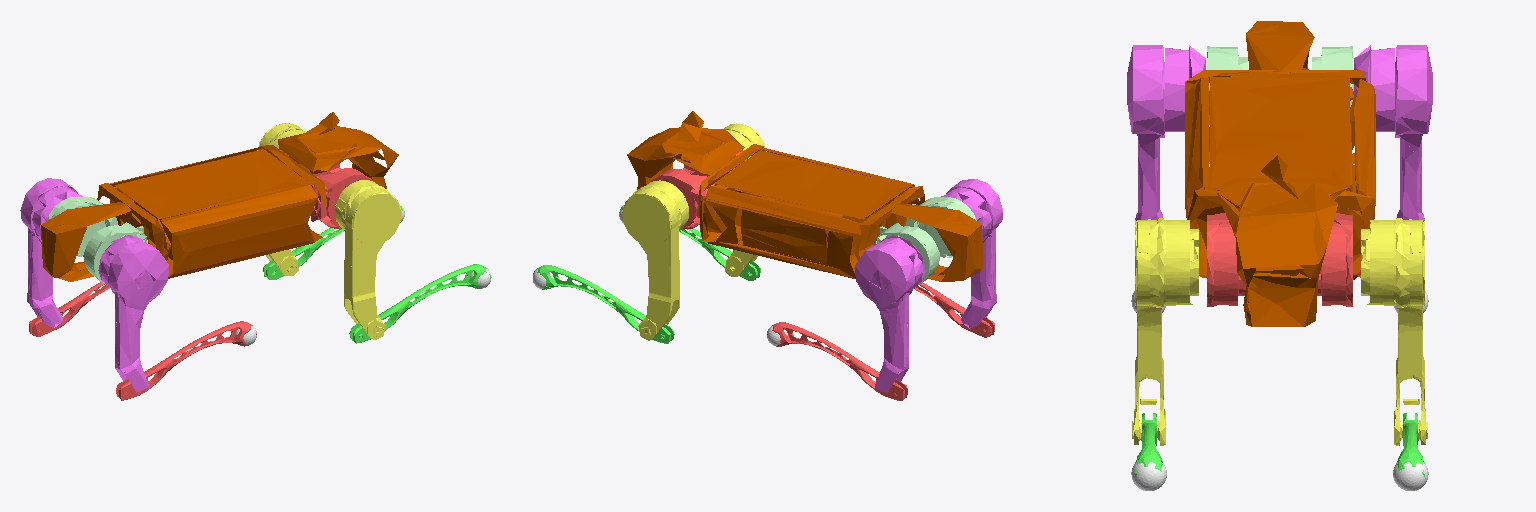
--- Render facts (derived) ---
The picture shows the robot from 3 angles, left to right: view 1: azimuth 30°, elevation 25°; view 2: azimuth 150°, elevation 25°; view 3: azimuth 270°, elevation 25°; orthographic projection.
Robot: galileo_mini15 — 18 links, 17 joints (12 revolute, 4 fixed, 1 floating); root link world; default pose: joints at zero except 4 at the middle of their limits (FR_knee_joint = -1.81, HR_knee_joint = -1.81, FL_knee_joint = -1.81, HL_knee_joint = -1.81).
Visible links, largest first — view 1: base_link, FR_hip_link, HR_hip_link, HL_hip_link, HR_knee_link, FR_knee_link, FR_abd_link, HR_abd_link, FL_hip_link, HL_knee_link, HL_abd_link, FL_knee_link; view 2: base_link, FL_hip_link, HL_hip_link, HR_hip_link, HL_knee_link, FL_knee_link, HL_abd_link, FL_abd_link, FR_hip_link, HR_knee_link, HR_abd_link, FR_knee_link; view 3: base_link, FR_hip_link, FL_hip_link, HL_hip_link, HR_hip_link, FR_abd_link, FL_abd_link, HL_abd_link, FR_knee_link, FL_knee_link, HR_abd_link, FR_foot_link (+1 smaller).
Link boxes in pixels (x1=…): base_link: x1=41, y1=112, x2=398, y2=281; FR_hip_link: x1=335, y1=180, x2=401, y2=339; HR_hip_link: x1=98, y1=235, x2=168, y2=392; HL_hip_link: x1=20, y1=178, x2=82, y2=327; HR_knee_link: x1=116, y1=321, x2=256, y2=400; FR_knee_link: x1=349, y1=264, x2=490, y2=343; FR_abd_link: x1=311, y1=168, x2=373, y2=228; HR_abd_link: x1=83, y1=222, x2=147, y2=284; FL_hip_link: x1=258, y1=123, x2=306, y2=275; HL_knee_link: x1=29, y1=282, x2=109, y2=336; HL_abd_link: x1=47, y1=197, x2=118, y2=256; FL_knee_link: x1=263, y1=206, x2=402, y2=279; base_link: x1=627, y1=111, x2=982, y2=281; FL_hip_link: x1=622, y1=180, x2=688, y2=340; HL_hip_link: x1=855, y1=235, x2=925, y2=392; HR_hip_link: x1=941, y1=179, x2=1002, y2=328; HL_knee_link: x1=767, y1=322, x2=907, y2=400; FL_knee_link: x1=533, y1=265, x2=674, y2=343; HL_abd_link: x1=875, y1=223, x2=940, y2=284; FL_abd_link: x1=651, y1=169, x2=714, y2=228; FR_hip_link: x1=724, y1=123, x2=764, y2=276; HR_knee_link: x1=913, y1=283, x2=994, y2=337; HR_abd_link: x1=906, y1=197, x2=976, y2=257; FR_knee_link: x1=621, y1=207, x2=760, y2=280; base_link: x1=1185, y1=21, x2=1375, y2=326; FR_hip_link: x1=1132, y1=218, x2=1198, y2=445; FL_hip_link: x1=1361, y1=218, x2=1427, y2=445; HL_hip_link: x1=1353, y1=45, x2=1432, y2=220; HR_hip_link: x1=1127, y1=45, x2=1205, y2=220; FR_abd_link: x1=1207, y1=213, x2=1245, y2=306; FL_abd_link: x1=1317, y1=213, x2=1352, y2=306; HL_abd_link: x1=1312, y1=46, x2=1352, y2=106; FR_knee_link: x1=1135, y1=413, x2=1162, y2=481; FL_knee_link: x1=1397, y1=413, x2=1424, y2=481; HR_abd_link: x1=1207, y1=46, x2=1247, y2=126; FR_foot_link: x1=1131, y1=462, x2=1166, y2=490.
Bounding box of the posed robot: 0.9776 × 0.4299 × 0.4579 m (x, y, z).
13 mesh visuals loaded from 7 distinct referenced files (7 binary STL).

URDF robot description (galileo_mini15):
<?xml version="1.0" encoding="utf-8"?>

<robot name="galileo_mini15">
    <mujoco>
        <compiler 
        meshdir="../meshes/" 
        balanceinertia="true" 
        discardvisual="false" />
  </mujoco>
  <link name="world" />
  <joint name="floating_base_joint" type="floating">
    <origin xyz="0 0 0" rpy="0 0 0" />
    <parent link="world" />
    <child link="base_link" />
  </joint>
  <link name="base_link">
    <inertial>
      <origin xyz="0.01435 0.0040863 0.0010607" rpy="0 0 0" />
      <mass value="16.057" />
      <inertia
        ixx="0.082348"
        iyy="0.407373"
        izz="0.445820"
        ixy="0.000713"
        ixz="0.022641"
        iyz="-0.000244" />
    </inertial>
    <visual>
      <origin xyz="0 0 0" rpy="0 0 0" />
      <geometry>
        <mesh filename="package://galileo_mini15_description/meshes/trunk.STL" scale="1 1 1" />
      </geometry>
      <material name="">
        <color rgba="0.8 0.4 0 1" />
      </material>
    </visual>
    <collision>
      <origin xyz="0 0 0" rpy="0 0 0" />
      <geometry>
        <mesh filename="package://galileo_mini15_description/meshes/trunk.STL" scale="1 1 1" />
      </geometry>
    </collision>
  </link>

  <!-- ****************************FR**************************** -->

  <link name="FR_abd_link">
    <inertial>
      <origin xyz="0.074261 -0.010662 0.00797" rpy="0 0 0" />
      <mass value="1.748" />
      <inertia ixx="0.000667447" iyy="0.00144482" izz="0.00107312" ixy="7.2909e-05"
        ixz="-1.0214e-05" iyz="-5.08e-08" />
    </inertial>
    <visual>
      <origin xyz="0 0 0" rpy="0 0 0" />
      <geometry>
        <mesh filename="package://galileo_mini15_description/meshes/FL_abd_link.STL"
          scale="1.0 -1.0 1.0" />
      </geometry>
      <material name="">
        <color rgba="1 0.4 0.4 1" />
      </material>
    </visual>
    <collision>
      <origin xyz="0 0 0" rpy="0 0 0" />
      <geometry>
        <mesh filename="package://galileo_mini15_description/meshes/FL_abd_link.STL"
          scale="1.0 -1.0 1.0" />
      </geometry>
    </collision>
  </link>

  <joint name="FR_abd_joint" type="revolute">
    <origin xyz="0.2065 -0.065 0.0" rpy="-0.0 0.0 -0.0" />
    <parent link="base_link" />
    <child link="FR_abd_link" />
    <axis xyz="1 0 0" />
    <limit lower="-0.80285" upper="0.80285" effort="100" velocity="21" />
  </joint>

  <link name="FR_hip_link">
    <inertial>
      <origin xyz="-0.0014 0.0344 -0.0174" rpy="0 0 0" />
      <mass value="2.22606" />
      <inertia ixx="0.009416249" iyy="0.0090907891" izz="0.0023041271" ixy="-0.0001223515"
        ixz="-0.0004705786" iyz="-0.0013313752" />
    </inertial>
    <visual>
      <origin xyz="0 0 0" rpy="0 0 0" />
      <geometry>
        <mesh filename="package://galileo_mini15_description/meshes/FL_hip_link.STL"
          scale="1.0 -1.0 1.0" />
      </geometry>
      <material name="">
        <color rgba="1 1 0.4 1" />
      </material>
    </visual>
    <collision>
      <origin xyz="0 0 0" rpy="0 0 0" />
      <geometry>
        <mesh filename="package://galileo_mini15_description/meshes/FL_hip_link.STL"
          scale="1.0 -1.0 1.0" />
      </geometry>
    </collision>
  </link>

  <joint name="FR_hip_joint" type="revolute">
    <origin xyz="0.08 -0.119 0.0" rpy="-0.0 0.0 -0.0" />
    <parent link="FR_abd_link" />
    <child link="FR_hip_link" />
    <axis xyz="0 1 0" />
    <limit lower="-4.1888" upper="1.0472" effort="100" velocity="21" />
  </joint>

  <link name="FR_knee_link">
    <inertial>
      <origin xyz="0.0034 0.0105 -0.13" rpy="0 0 0" />
      <mass value="0.3261" />
      <inertia ixx="0.0046064111" iyy="0.0046485626" izz="8.17992e-05" ixy="9.9e-09"
        ixz="1.8937e-06" iyz="4.4248e-06" />
    </inertial>
    <visual>
      <origin xyz="0 0 0" rpy="0 0 0" />
      <geometry>
        <mesh filename="package://galileo_mini15_description/meshes/FL_knee_link.STL"
          scale="1.0 -1.0 1.0" />
      </geometry>
      <material name="">
        <color rgba="0.4 1 0.4 1" />
      </material>
    </visual>
    <collision>
      <origin xyz="0 0 0" rpy="0 0 0" />
      <geometry>
        <mesh filename="package://galileo_mini15_description/meshes/FL_knee_link.STL"
          scale="1.0 -1.0 1.0" />
      </geometry>
    </collision>
  </link>

  <joint name="FR_knee_joint" type="revolute">
    <origin xyz="0.0 -0.01 -0.26" rpy="-0.0 0.0 -0.0" />
    <parent link="FR_hip_link" />
    <child link="FR_knee_link" />
    <axis xyz="0 1 0" />
    <limit lower="-2.6965" upper="-0.9163" effort="150" velocity="21" />
  </joint>

  <link name="FR_foot_link">
    <inertial>
      <origin xyz="0.001 0 0.002" rpy="0 0 0" />
      <mass
        value="0.01020487" />
      <inertia
        ixx="5.496E-08"
        ixy="0"
        ixz="1.7152E-40"
        iyy="5.496E-08"
        iyz="0"
        izz="5.496E-08" />
    </inertial>
    <visual>
      <origin xyz="-0.04 0.0105 -0.006" rpy="0 0 0" />
      <geometry>
        <sphere radius="0.025" />
      </geometry>
      <material name="">
        <color rgba="1 1 1 1" />
      </material>
    </visual>
    <collision>
      <origin xyz="-0.04 0.0105 -0.006" rpy="0 0 0" />
      <geometry>
        <sphere radius="0.025" />
      </geometry>
    </collision>
  </link>

  <joint name="FR_foot_joint" type="fixed" dont_collapse="true">
    <origin xyz="0.032939 -0.0 -0.26149" rpy="-0.0 0.0 -0.0" />
    <parent link="FR_knee_link" />
    <child link="FR_foot_link" />
    <axis xyz="0 1 0" />
    <limit lower="0" upper="0" effort="0" velocity="0" />
  </joint>

  <!-- ****************************HR**************************** -->
  <link name="HR_abd_link">
    <inertial>
      <origin xyz="0.074261 -0.010662 0.00797" rpy="0 0 0" />
      <mass value="1.748" />
      <inertia ixx="0.000667447" iyy="0.00144482" izz="0.00107312" ixy="-7.2909e-05"
        ixz="1.0214e-05" iyz="-5.08e-08" />
    </inertial>
    <visual>
      <origin xyz="0 0 0" rpy="0 0 0" />
      <geometry>
        <mesh filename="package://galileo_mini15_description/meshes/RL_abd_link.STL"
          scale="1.0 -1.0 1.0" />
      </geometry>
      <material name="">
        <color rgba="0.8 1.0 0.8 1" />
      </material>
    </visual>
    <collision>
      <origin xyz="0 0 0" rpy="0 0 0" />
      <geometry>
        <mesh filename="package://galileo_mini15_description/meshes/RL_abd_link.STL"
          scale="1.0 -1.0 1.0" />
      </geometry>
    </collision>
  </link>

  <joint name="HR_abd_joint" type="revolute">
    <origin xyz="-0.2065 -0.065 0.0" rpy="-0.0 0.0 -0.0" />
    <parent link="base_link" />
    <child link="HR_abd_link" />
    <axis xyz="1 0 0" />
    <limit lower="-0.80285" upper="0.80285" effort="100" velocity="21" />
  </joint>

  <link name="HR_hip_link">
    <inertial>
      <origin xyz="-0.0014 0.0344 -0.0174" rpy="0 0 0" />
      <mass value="2.22606" />
      <inertia ixx="0.009416249" iyy="0.0090907891" izz="0.0023041271" ixy="-0.0001223515"
        ixz="-0.0004705786" iyz="-0.0013313752" />
    </inertial>
    <visual>
      <origin xyz="0 0 0" rpy="0 0 0" />
      <geometry>
        <mesh filename="package://galileo_mini15_description/meshes/RL_hip_link.STL"
          scale="1.0 -1.0 1.0" />
      </geometry>
      <material name="">
        <color rgba="1 0.5 1 1" />
      </material>
    </visual>
    <collision>
      <origin xyz="0 0 0" rpy="0 0 0" />
      <geometry>
        <mesh filename="package://galileo_mini15_description/meshes/RL_hip_link.STL"
          scale="1.0 -1.0 1.0" />
      </geometry>
    </collision>
  </link>

  <joint name="HR_hip_joint" type="revolute">
    <origin xyz="-0.08 -0.119 0.0" rpy="-0.0 0.0 -0.0" />
    <parent link="HR_abd_link" />
    <child link="HR_hip_link" />
    <axis xyz="0 1 0" />
    <limit lower="-4.1888" upper="1.0472" effort="100" velocity="21" />
  </joint>

  <link name="HR_knee_link">
    <inertial>
      <origin xyz="0.0034 0.0105 -0.13" rpy="0 0 0" />
      <mass value="0.3261" />
      <inertia ixx="0.0046064111" iyy="0.0046485626" izz="8.17992e-05" ixy="9.9e-09"
        ixz="1.8937e-06" iyz="4.4248e-06" />
    </inertial>
    <visual>
      <origin xyz="0 0 0" rpy="0 0 0" />
      <geometry>
        <mesh filename="package://galileo_mini15_description/meshes/RL_knee_link.STL"
          scale="1.0 -1.0 1.0" />
      </geometry>
      <material name="">
        <color rgba="1 0.4 0.4 1" />
      </material>
    </visual>
    <collision>
      <origin xyz="0 0 0" rpy="0 0 0" />
      <geometry>
        <mesh filename="package://galileo_mini15_description/meshes/RL_knee_link.STL"
          scale="1.0 -1.0 1.0" />
      </geometry>
    </collision>
  </link>

  <joint name="HR_knee_joint" type="revolute">
    <origin xyz="0.0 -0.01 -0.26" rpy="-0.0 0.0 -0.0" />
    <parent link="HR_hip_link" />
    <child link="HR_knee_link" />
    <axis xyz="0 1 0" />
    <limit lower="-2.6965" upper="-0.9163" effort="150" velocity="21" />
  </joint>

  <link name="HR_foot_link">
    <inertial>
      <origin xyz="0.001 0 0.002" rpy="0 0 0" />
      <mass
        value="0.010204873572147578" />
      <inertia
        ixx="5.49600066619755E-08"
        ixy="0"
        ixz="5.28443143791483E-42"
        iyy="5.49600066619755E-08"
        iyz="0"
        izz="5.49600066619755E-08" />
    </inertial>
    <visual>
      <origin xyz="-0.04 0.0105 -0.006" rpy="0 0 0" />
      <geometry>
        <sphere radius="0.025" />
      </geometry>
      <material name="">
        <color rgba="1 1 1 1" />
      </material>
    </visual>
    <collision>
      <origin xyz="-0.04 0.0105 -0.006" rpy="0 0 0" />
      <geometry>
        <sphere radius="0.025" />
      </geometry>
    </collision>
  </link>

  <joint name="HR_foot_joint" type="fixed" dont_collapse="true">
    <origin xyz="0.032939 -0.0 -0.26149" rpy="-0.0 0.0 -0.0" />
    <parent link="HR_knee_link" />
    <child link="HR_foot_link" />
    <axis xyz="0 1 0" />
    <limit lower="0" upper="0" effort="0" velocity="0" />
  </joint>

  <!-- ****************************FL**************************** -->

  <link name="FL_abd_link">
    <inertial>
      <origin xyz="0.074261 0.010662 0.00797" rpy="0 0 0" />
      <mass value="1.748" />
      <inertia ixx="0.000667447" iyy="0.00144482" izz="0.00107312" ixy="-7.2909e-05"
        ixz="-1.0214e-05" iyz="5.08e-08" />
    </inertial>
    <visual>
      <origin xyz="0 0 0" rpy="0 0 0" />
      <geometry>
        <mesh filename="package://galileo_mini15_description/meshes/FL_abd_link.STL" scale="1 1 1" />
      </geometry>
      <material name="">
        <color rgba="1 0.4 0.4 1" />
      </material>
    </visual>
    <collision>
      <origin xyz="0 0 0" rpy="0 0 0" />
      <geometry>
        <mesh filename="package://galileo_mini15_description/meshes/FL_abd_link.STL" scale="1 1 1" />
      </geometry>
    </collision>
  </link>

  <joint name="FL_abd_joint" type="revolute">
    <origin xyz="0.2065 0.065 0" rpy="0 0 0" />
    <parent link="base_link" />
    <child link="FL_abd_link" />
    <axis xyz="1 0 0" />
    <limit lower="-0.80285" upper="0.80285" effort="100" velocity="21" />
  </joint>

  <link name="FL_hip_link">
    <inertial>
      <origin xyz="-0.0014 -0.0344 -0.0174" rpy="0 0 0" />
      <mass value="2.22606" />
      <inertia ixx="0.009416249" iyy="0.0090907891" izz="0.0023041271" ixy="0.0001223515"
        ixz="-0.0004705786" iyz="0.0013313752" />
    </inertial>
    <visual>
      <origin xyz="0 0 0" rpy="0 0 0" />
      <geometry>
        <mesh filename="package://galileo_mini15_description/meshes/FL_hip_link.STL" scale="1 1 1" />
      </geometry>
      <material name="">
        <color rgba="1 1 0.4 1" />
      </material>
    </visual>
    <collision>
      <origin xyz="0 0 0" rpy="0 0 0" />
      <geometry>
        <mesh filename="package://galileo_mini15_description/meshes/FL_hip_link.STL" scale="1 1 1" />
      </geometry>
    </collision>
  </link>

  <joint name="FL_hip_joint" type="revolute">
    <origin xyz="0.08 0.119 0" rpy="0 0 0" />
    <parent link="FL_abd_link" />
    <child link="FL_hip_link" />
    <axis xyz="0 1 0" />
    <limit lower="-4.1888" upper="1.0472" effort="100" velocity="21" />
  </joint>

  <link name="FL_knee_link">
    <inertial>
      <origin xyz="0.0034 -0.0105 -0.13" rpy="0 0 0" />
      <mass value="0.3261" />
      <inertia ixx="0.0046064111" iyy="0.0046485626" izz="8.17992e-05" ixy="-9.9e-09"
        ixz="1.8937e-06" iyz="-4.4248e-06" />
    </inertial>
    <visual>
      <origin xyz="0 0 0" rpy="0 0 0" />
      <geometry>
        <mesh filename="package://galileo_mini15_description/meshes/FL_knee_link.STL" scale="1 1 1" />
      </geometry>
      <material name="">
        <color rgba="0.4 1 0.4 1" />
      </material>
    </visual>
    <collision>
      <origin xyz="0 0 0" rpy="0 0 0" />
      <geometry>
        <mesh filename="package://galileo_mini15_description/meshes/FL_knee_link.STL" scale="1 1 1" />
      </geometry>
    </collision>
  </link>

  <joint name="FL_knee_joint" type="revolute">
    <origin xyz="0 0.01 -0.26" rpy="0 0 0" />
    <parent link="FL_hip_link" />
    <child link="FL_knee_link" />
    <axis xyz="0 1 0" />
    <limit lower="-2.6965" upper="-0.9163" effort="150" velocity="21" />
  </joint>

  <link name="FL_foot_link">
    <inertial>
      <origin xyz="0.001 0 0.002" rpy="0 0 0" />
      <mass
        value="0.01020487" />
      <inertia
        ixx="5.496E-08"
        ixy="-2.0392E-56"
        ixz="0"
        iyy="5.496E-08"
        iyz="0"
        izz="5.496E-08" />
    </inertial>
    <visual>
      <origin xyz="-0.04 -0.0105 -0.006" rpy="0 0 0" />
      <geometry>
        <sphere radius="0.025" />
      </geometry>
      <material name="">
        <color rgba="1 1 1 1" />
      </material>
    </visual>
    <collision>
      <origin xyz="-0.04 -0.0105 -0.006" rpy="0 0 0" />
      <geometry>
        <sphere radius="0.025" />
      </geometry>
    </collision>
  </link>

  <joint name="FL_foot_joint" type="fixed" dont_collapse="true">
    <origin xyz="0.032939 0 -0.26149" rpy="0 0 0" />
    <parent link="FL_knee_link" />
    <child link="FL_foot_link" />
    <axis xyz="0 1 0" />
    <limit lower="0" upper="0" effort="0" velocity="0" />
  </joint>

  <!-- ****************************HL**************************** -->

  <link name="HL_abd_link">
    <inertial>
      <origin xyz="0.074261 0.010662 0.00797" rpy="0 0 0" />
      <mass value="1.748" />
      <inertia ixx="0.000667447" iyy="0.00144482" izz="0.00107312" ixy="7.2909e-05" ixz="1.0214e-05"
        iyz="5.08e-08" />
    </inertial>
    <visual>
      <origin xyz="0 0 0" rpy="0 0 0" />
      <geometry>
        <mesh filename="package://galileo_mini15_description/meshes/RL_abd_link.STL" scale="1 1 1" />
      </geometry>
      <material name="">
        <color rgba="0.8 1.0 0.8 1" />
      </material>
    </visual>
    <collision>
      <origin xyz="0 0 0" rpy="0 0 0" />
      <geometry>
        <mesh filename="package://galileo_mini15_description/meshes/RL_abd_link.STL" scale="1 1 1" />
      </geometry>
    </collision>
  </link>

  <joint name="HL_abd_joint" type="revolute">
    <origin xyz="-0.2065 0.065 0" rpy="0 0 0" />
    <parent link="base_link" />
    <child link="HL_abd_link" />
    <axis xyz="1 0 0" />
    <limit lower="-0.80285" upper="0.80285" effort="100" velocity="21" />
  </joint>

  <link name="HL_hip_link">
    <inertial>
      <origin xyz="-0.0014 -0.0344 -0.0174" rpy="0 0 0" />
      <mass value="2.22606" />
      <inertia ixx="0.009416249" iyy="0.0090907891" izz="0.0023041271" ixy="0.0001223515"
        ixz="-0.0004705786" iyz="0.0013313752" />
    </inertial>
    <visual>
      <origin xyz="0 0 0" rpy="0 0 0" />
      <geometry>
        <mesh filename="package://galileo_mini15_description/meshes/RL_hip_link.STL" scale="1 1 1" />
      </geometry>
      <material name="">
        <color rgba="1 0.5 1 1" />
      </material>
    </visual>
    <collision>
      <origin xyz="0 0 0" rpy="0 0 0" />
      <geometry>
        <mesh filename="package://galileo_mini15_description/meshes/RL_hip_link.STL" scale="1 1 1" />
      </geometry>
    </collision>
  </link>

  <joint name="HL_hip_joint" type="revolute">
    <origin xyz="-0.08 0.119 0" rpy="0 0 0" />
    <parent link="HL_abd_link" />
    <child link="HL_hip_link" />
    <axis xyz="0 1 0" />
    <limit lower="-4.1888" upper="1.0472" effort="100" velocity="21" />
  </joint>

  <link name="HL_knee_link">
    <inertial>
      <origin xyz="0.0034 -0.0105 -0.13" rpy="0 0 0" />
      <mass value="0.3261" />
      <inertia ixx="0.0046064111" iyy="0.0046485626" izz="8.17992e-05" ixy="-9.9e-09"
        ixz="1.8937e-06" iyz="-4.4248e-06" />
    </inertial>
    <visual>
      <origin xyz="0 0 0" rpy="0 0 0" />
      <geometry>
        <mesh filename="package://galileo_mini15_description/meshes/RL_knee_link.STL" scale="1 1 1" />
      </geometry>
      <material name="">
        <color rgba="1 0.4 0.4 1" />
      </material>
    </visual>
    <collision>
      <origin xyz="0 0 0" rpy="0 0 0" />
      <geometry>
        <mesh filename="package://galileo_mini15_description/meshes/RL_knee_link.STL" scale="1 1 1" />
      </geometry>
    </collision>
  </link>

  <joint name="HL_knee_joint" type="revolute">
    <origin xyz="0 0.01 -0.26" rpy="0 0 0" />
    <parent link="HL_hip_link" />
    <child link="HL_knee_link" />
    <axis xyz="0 1 0" />
    <limit lower="-2.6965" upper="-0.9163" effort="150" velocity="21" />
  </joint>

  <link name="HL_foot_link">
    <inertial>
      <origin xyz="0.001 0 0.002" rpy="0 0 0" />
      <mass
        value="0.010204873572147578" />
      <inertia
        ixx="5.49600066619755E-08"
        ixy="0"
        ixz="7.97487625425431E-42"
        iyy="5.49600066619755E-08"
        iyz="0"
        izz="5.49600066619755E-08" />
    </inertial>
    <visual>
      <origin xyz="-0.04 -0.0105 -0.006" rpy="0 0 0" />
      <geometry>
        <sphere radius="0.025" />
      </geometry>
      <material name="">
        <color rgba="1 1 1 1" />
      </material>
    </visual>
    <collision>
      <origin xyz="-0.04 -0.0105 -0.006" rpy="0 0 0" />
      <geometry>
        <sphere radius="0.025" />
      </geometry>
    </collision>
  </link>

  <joint name="HL_foot_joint" type="fixed" dont_collapse="true">
    <origin xyz="0.032939 0 -0.26149" rpy="0 0 0" />
    <parent link="HL_knee_link" />
    <child link="HL_foot_link" />
    <axis xyz="0 1 0" />
    <limit lower="0" upper="0" effort="0" velocity="0" />
  </joint>

  <!-- ros2 control -->
  <ros2_control name="GalileoMiniSystem" type="system">
    <hardware>
      <plugin>hardware_mujoco/HardwareMujoco</plugin>
    </hardware>

    <joint name="FL_abd_joint">
      <command_interface name="position" />
      <command_interface name="velocity" />
      <command_interface name="effort" />
      <command_interface name="kp" />
      <command_interface name="kd" />
      <state_interface name="position" />
      <state_interface name="velocity" />
      <state_interface name="effort" />
    </joint>

    <joint name="FL_hip_joint">
      <command_interface name="position" />
      <command_interface name="velocity" />
      <command_interface name="effort" />
      <command_interface name="kp" />
      <command_interface name="kd" />
      <state_interface name="position" />
      <state_interface name="velocity" />
      <state_interface name="effort" />
    </joint>

    <joint name="FL_knee_joint">
      <command_interface name="position" />
      <command_interface name="velocity" />
      <command_interface name="effort" />
      <command_interface name="kp" />
      <command_interface name="kd" />
      <state_interface name="position" />
      <state_interface name="velocity" />
      <state_interface name="effort" />
    </joint>

    <joint name="FR_abd_joint">
      <command_interface name="position" />
      <command_interface name="velocity" />
      <command_interface name="effort" />
      <command_interface name="kp" />
      <command_interface name="kd" />
      <state_interface name="position" />
      <state_interface name="velocity" />
      <state_interface name="effort" />
    </joint>

    <joint name="FR_hip_joint">
      <command_interface name="position" />
      <command_interface name="velocity" />
      <command_interface name="effort" />
      <command_interface name="kp" />
      <command_interface name="kd" />
      <state_interface name="position" />
      <state_interface name="velocity" />
      <state_interface name="effort" />
    </joint>

    <joint name="FR_knee_joint">
      <command_interface name="position" />
      <command_interface name="velocity" />
      <command_interface name="effort" />
      <command_interface name="kp" />
      <command_interface name="kd" />
      <state_interface name="position" />
      <state_interface name="velocity" />
      <state_interface name="effort" />
    </joint>

    <joint name="HL_abd_joint">
      <command_interface name="position" />
      <command_interface name="velocity" />
      <command_interface name="effort" />
      <command_interface name="kp" />
      <command_interface name="kd" />
      <state_interface name="position" />
      <state_interface name="velocity" />
      <state_interface name="effort" />
    </joint>

    <joint name="HL_hip_joint">
      <command_interface name="position" />
      <command_interface name="velocity" />
      <command_interface name="effort" />
      <command_interface name="kp" />
      <command_interface name="kd" />
      <state_interface name="position" />
      <state_interface name="velocity" />
      <state_interface name="effort" />
    </joint>

    <joint name="HL_knee_joint">
      <command_interface name="position" />
      <command_interface name="velocity" />
      <command_interface name="effort" />
      <command_interface name="kp" />
      <command_interface name="kd" />
      <state_interface name="position" />
      <state_interface name="velocity" />
      <state_interface name="effort" />
    </joint>

    <joint name="HR_abd_joint">
      <command_interface name="position" />
      <command_interface name="velocity" />
      <command_interface name="effort" />
      <command_interface name="kp" />
      <command_interface name="kd" />
      <state_interface name="position" />
      <state_interface name="velocity" />
      <state_interface name="effort" />
    </joint>

    <joint name="HR_hip_joint">
      <command_interface name="position" />
      <command_interface name="velocity" />
      <command_interface name="effort" />
      <command_interface name="kp" />
      <command_interface name="kd" />
      <state_interface name="position" />
      <state_interface name="velocity" />
      <state_interface name="effort" />
    </joint>

    <joint name="HR_knee_joint">
      <command_interface name="position" />
      <command_interface name="velocity" />
      <command_interface name="effort" />
      <command_interface name="kp" />
      <command_interface name="kd" />
      <state_interface name="position" />
      <state_interface name="velocity" />
      <state_interface name="effort" />
    </joint>

    <sensor name="imu_sensor">
      <state_interface name="orientation.w" />
      <state_interface name="orientation.x" />
      <state_interface name="orientation.y" />
      <state_interface name="orientation.z" />
      <state_interface name="angular_velocity.x" />
      <state_interface name="angular_velocity.y" />
      <state_interface name="angular_velocity.z" />
      <state_interface name="linear_acceleration.x" />
      <state_interface name="linear_acceleration.y" />
      <state_interface name="linear_acceleration.z" />
    </sensor>

    <!-- <sensor name="foot_contact_sensor">
            <state_interface name="FR_foot_link" />
            <state_interface name="FL_foot_link" />
            <state_interface name="HR_foot_link" />
            <state_interface name="HL_foot_link" />
        </sensor> -->

  </ros2_control>
</robot>
